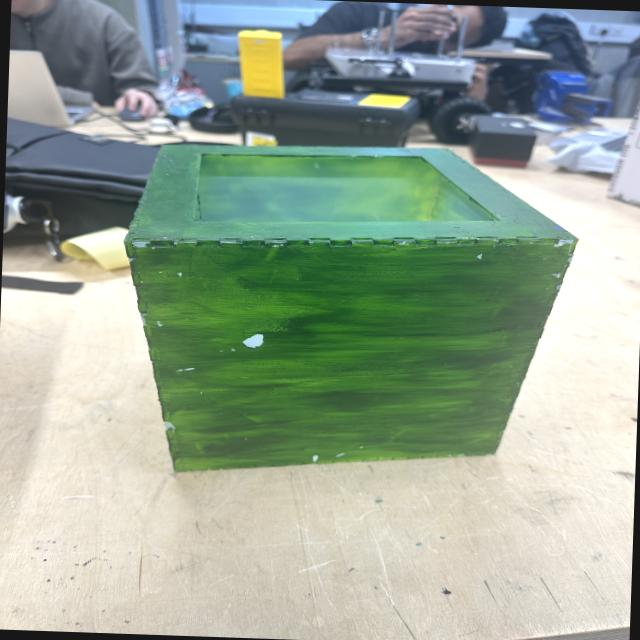green_bin: (115, 135, 583, 487)
